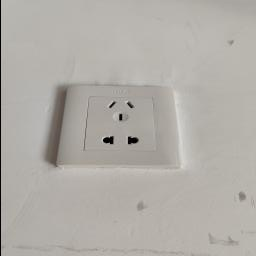outlet: (50, 77, 190, 177)
